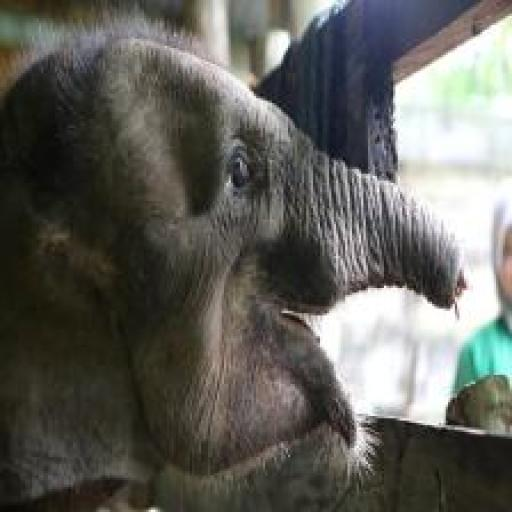Elephant: (14, 23, 495, 512)
